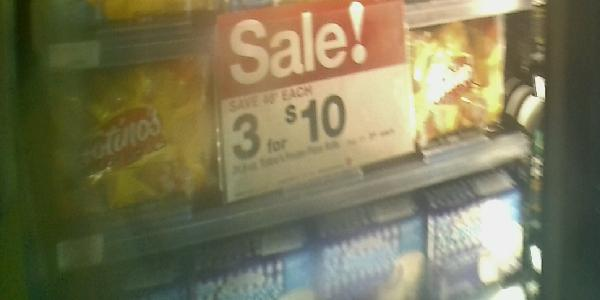icecream: (31, 65, 221, 211), (399, 26, 515, 145)
